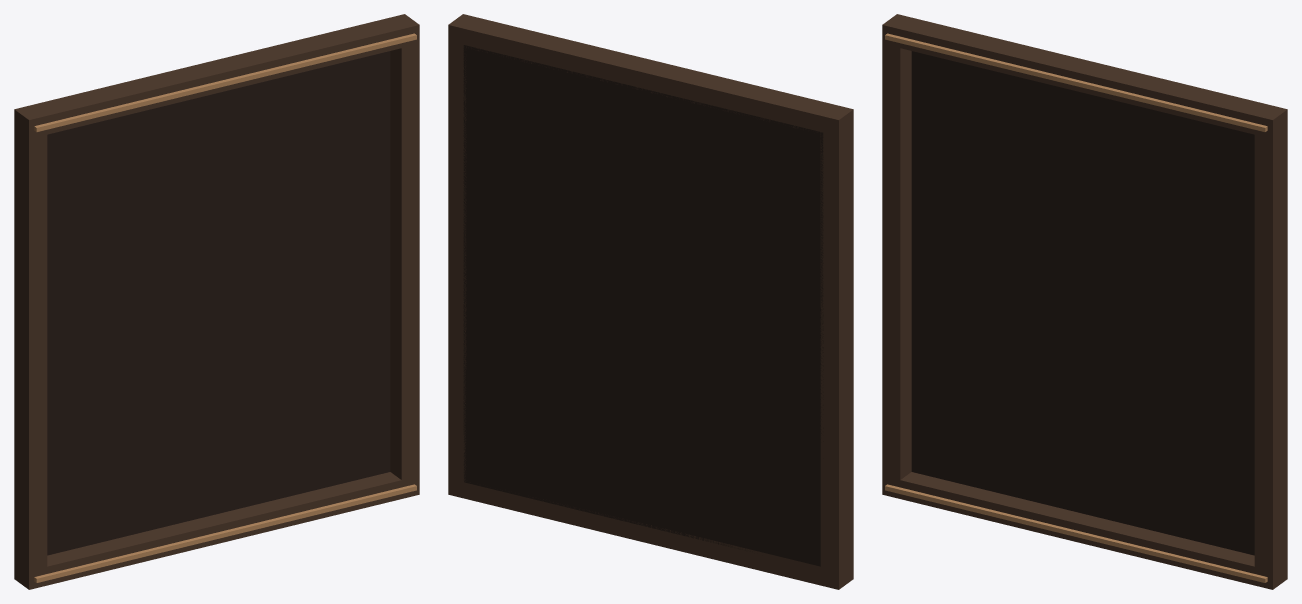
The model's file is portrait_tatyana.glb.
3 renders of one model, left to right at view 1: azimuth 30°, elevation 25°; view 2: azimuth 150°, elevation 25°; view 3: azimuth 330°, elevation 25°, orthographic.
Parts seen in each view (by area): view 1: portrait_tatyana; view 2: portrait_tatyana; view 3: portrait_tatyana.
Boxes of the visible parts, x1,y1,x2,y2 form: portrait_tatyana: (14,14,419,589); portrait_tatyana: (448,14,853,589); portrait_tatyana: (882,14,1287,589).
Bounding box in the file's own units: 0.757 × 0.87 × 0.058.
